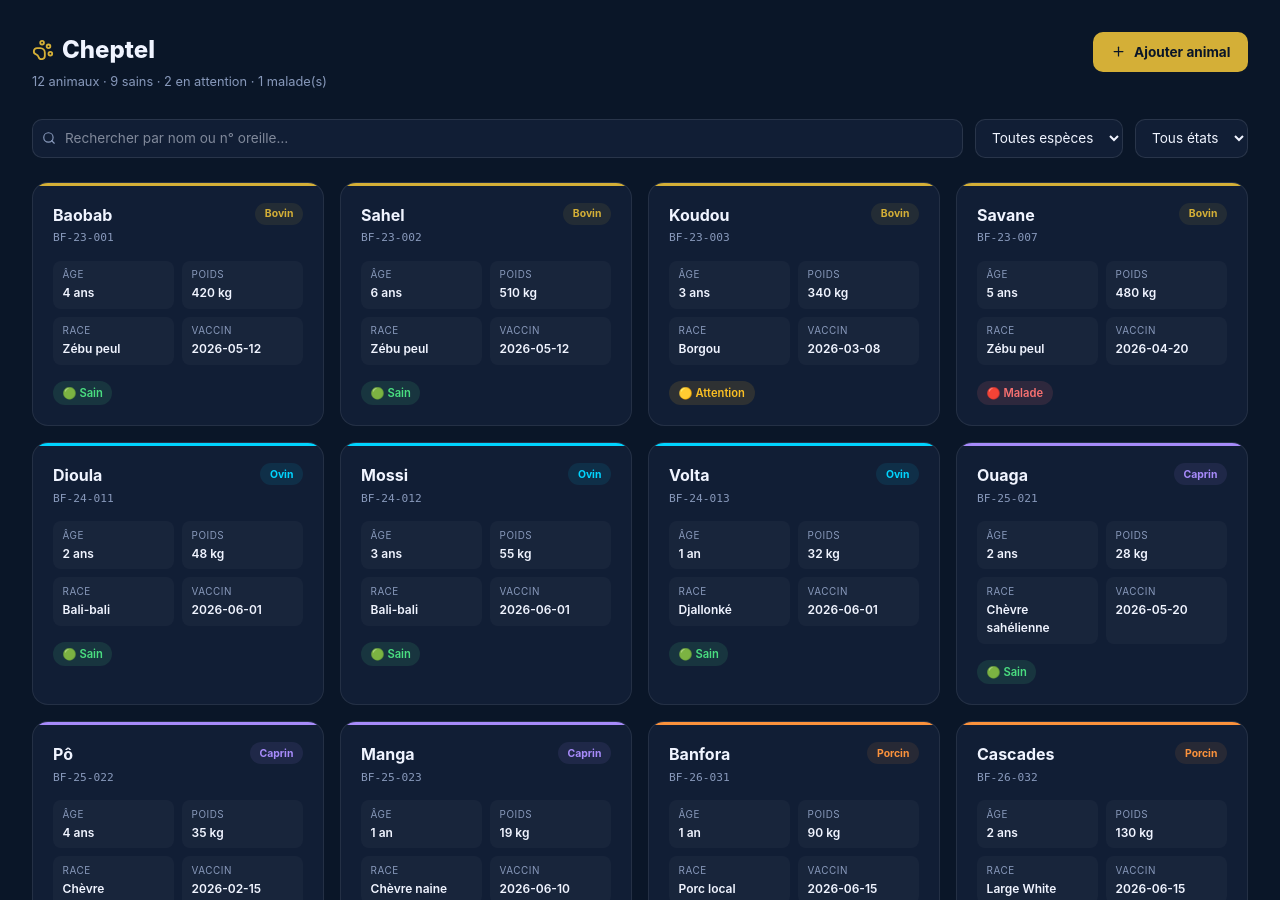
Test case: AnimauxPage › modal closes when clicking "Annuler"
The image size is (1280, 900).
Click the button "Ajouter animal". click: {"x": 1171, "y": 52}
box: [1094,32,1248,72]
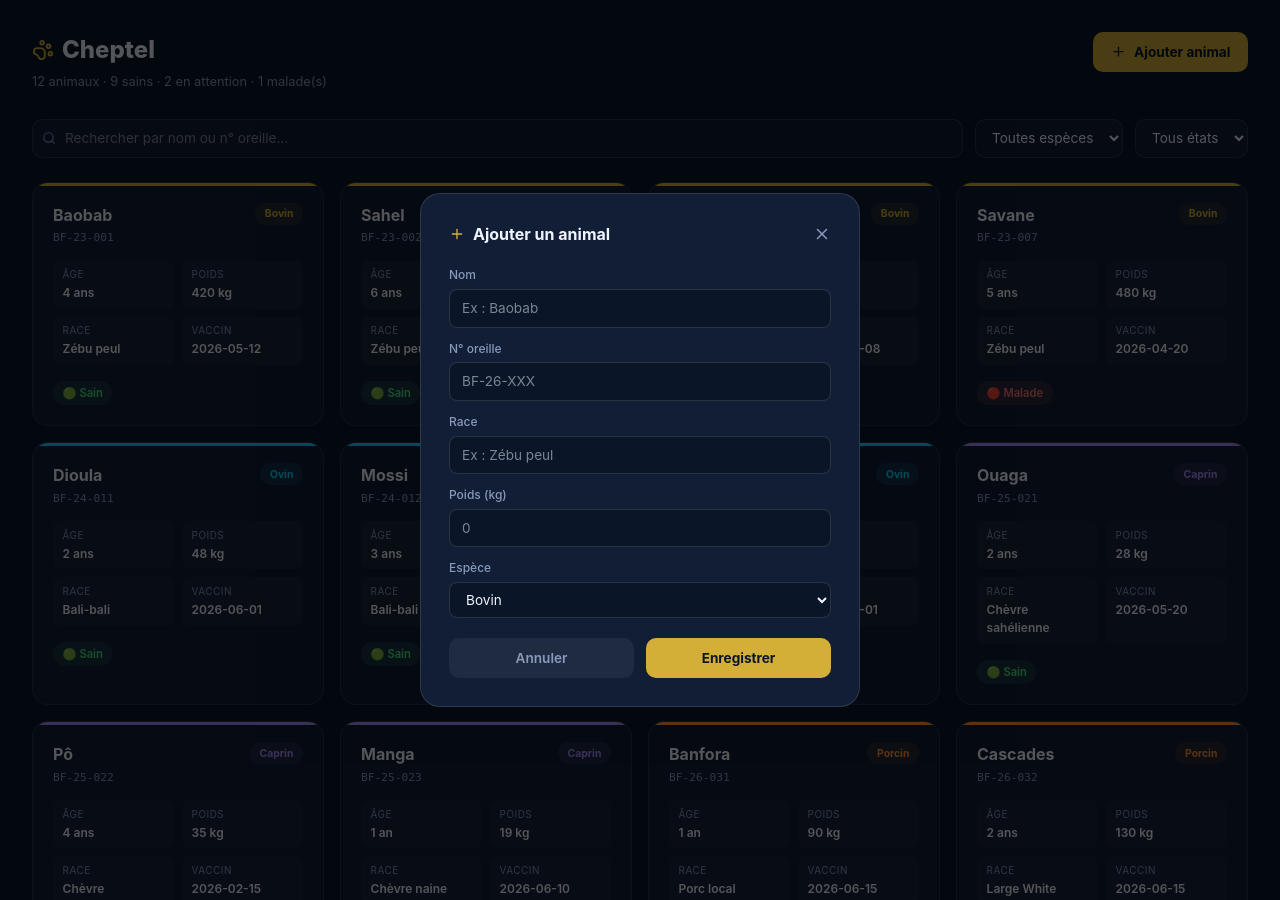
expect the heading "Ajouter un animal" is shown: met, box [449,222,610,246]
Click the button "Annuler". click: {"x": 542, "y": 658}
box: [449,638,634,678]
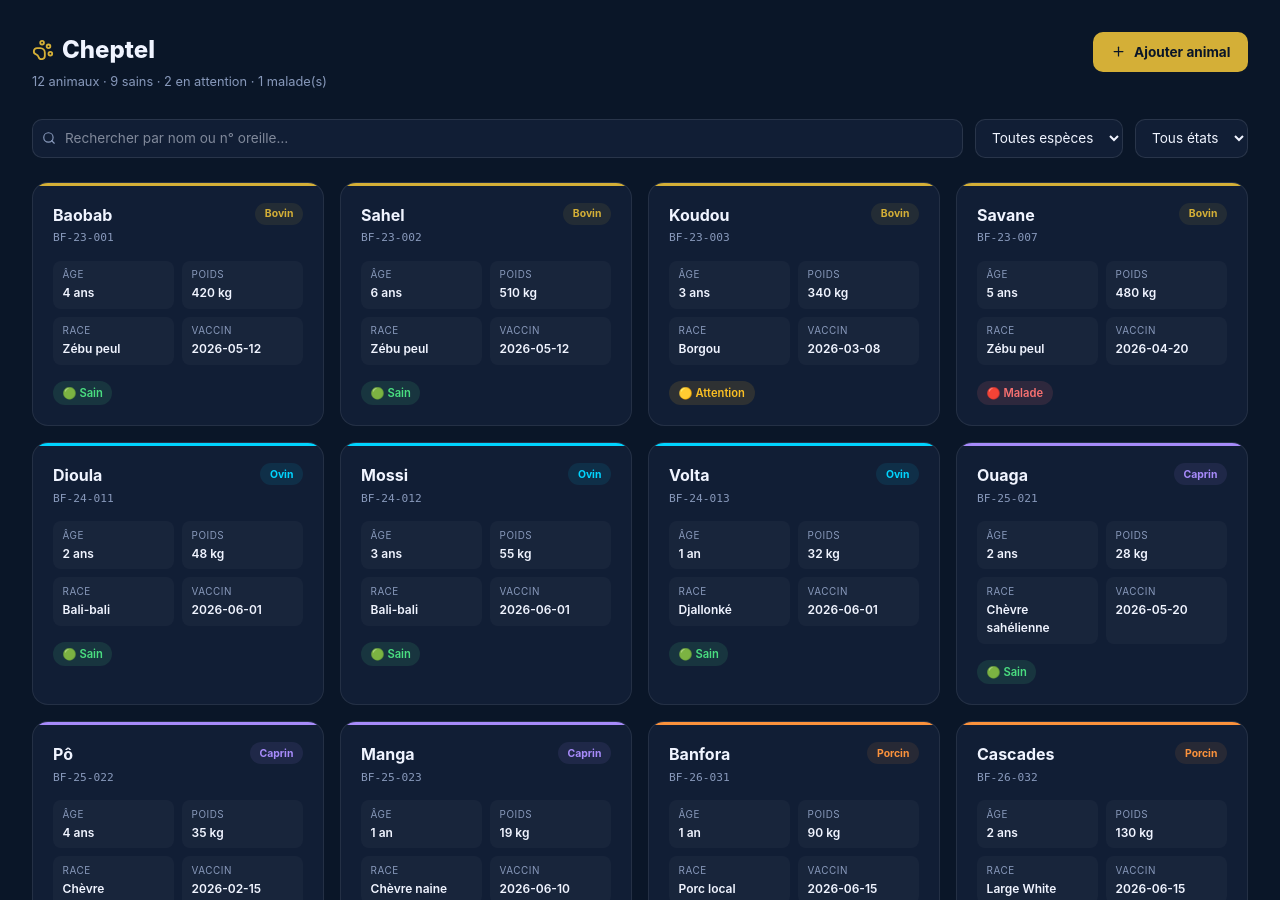
expect the heading "Ajouter un animal" is gone: met
